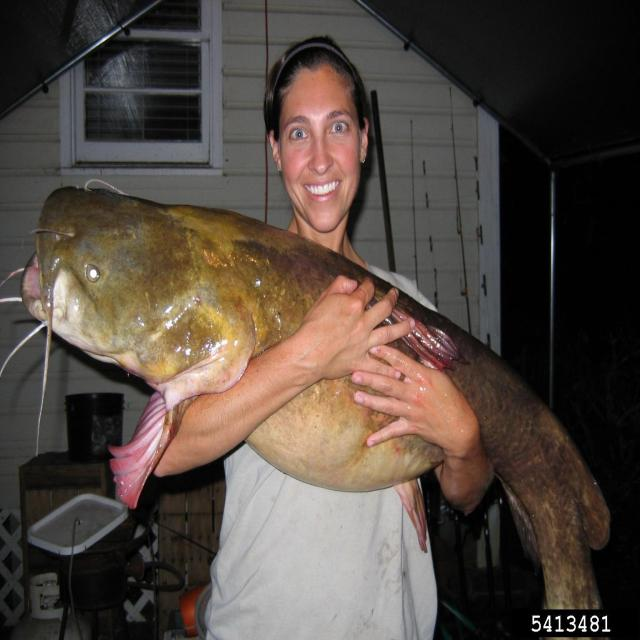Catfish - Flathead: (36, 188, 389, 502), (394, 293, 609, 608), (248, 378, 441, 532)
